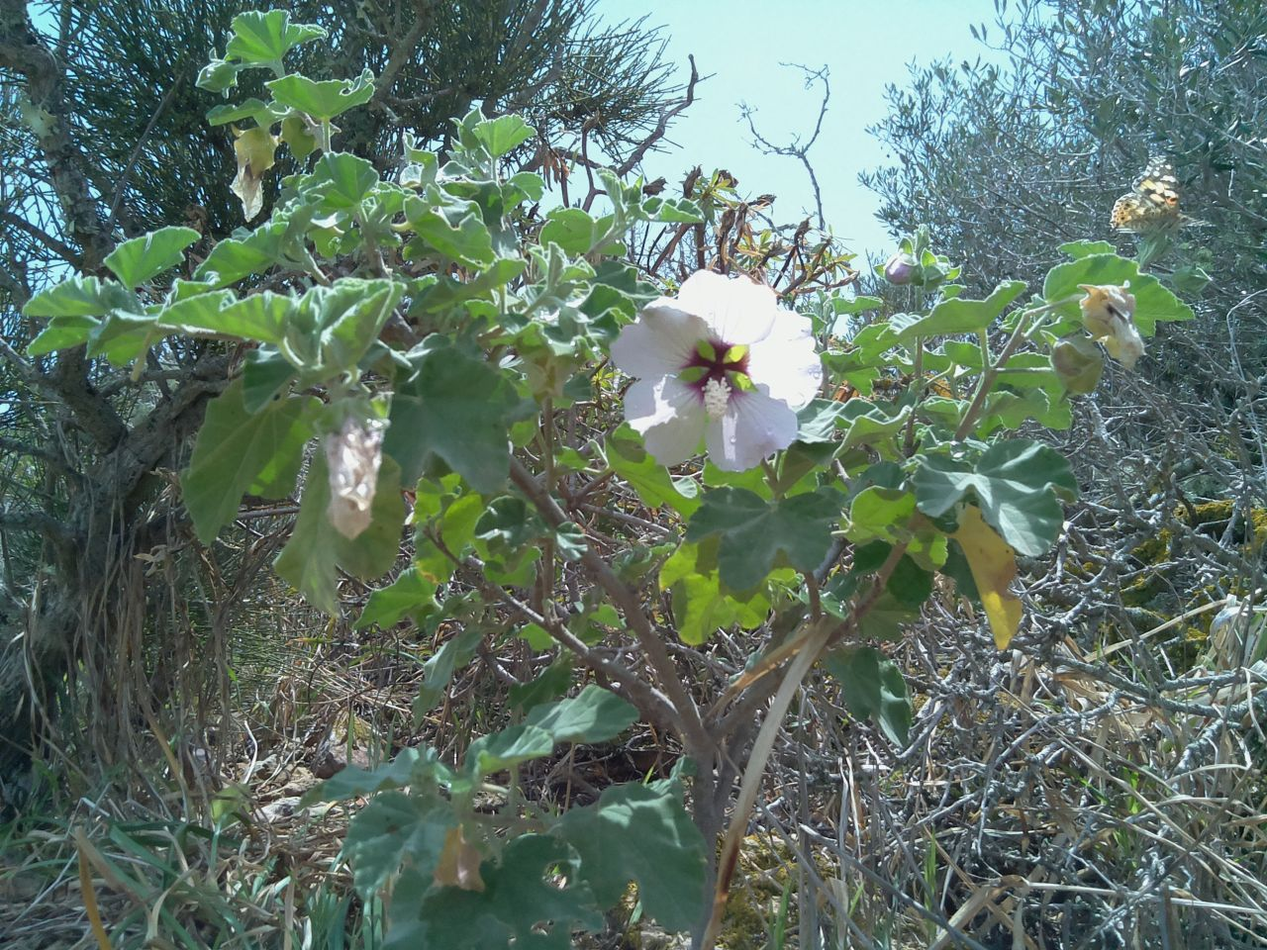Vanessa cardui: (1110, 136, 1221, 252)
